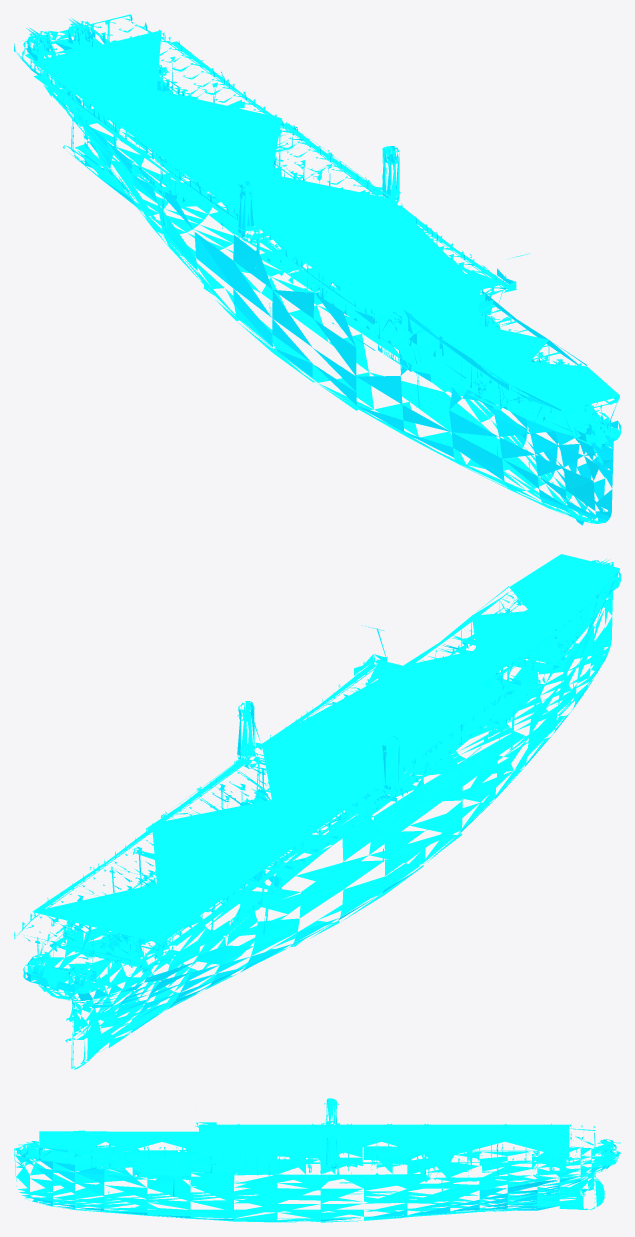
The model's file is PRSA104.glb.
3 renders of one model, top to bottom at view 1: azimuth 30°, elevation 25°; view 2: azimuth 150°, elevation 25°; view 3: azimuth 270°, elevation 25°, orthographic. The views are drawn at different scales.
Parts seen in each view (by area): view 1: hull_bow, secondary_battery; view 2: hull_bow, secondary_battery; view 3: hull_bow, secondary_battery.
Part boxes in pixels (x1=…): hull_bow: x1=14, y1=14, x2=620, y2=525; secondary_battery: x1=26, y1=18, x2=610, y2=438; hull_bow: x1=14, y1=554, x2=620, y2=1069; secondary_battery: x1=26, y1=558, x2=609, y2=991; hull_bow: x1=14, y1=1098, x2=620, y2=1222; secondary_battery: x1=18, y1=1139, x2=620, y2=1171.
Bounding box in the file's own units: 1.75 × 1.67 × 10.03.
